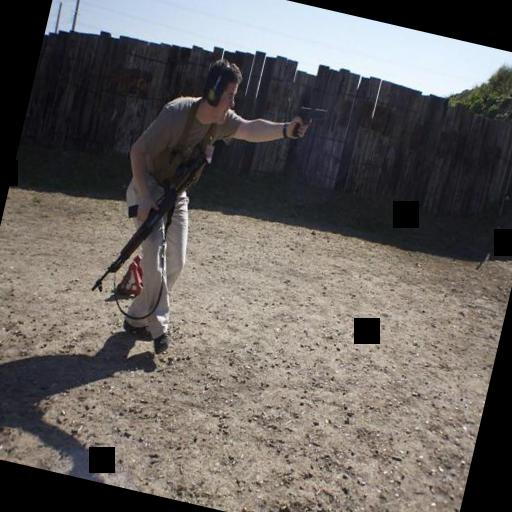Handgun: (289, 96, 332, 130)
